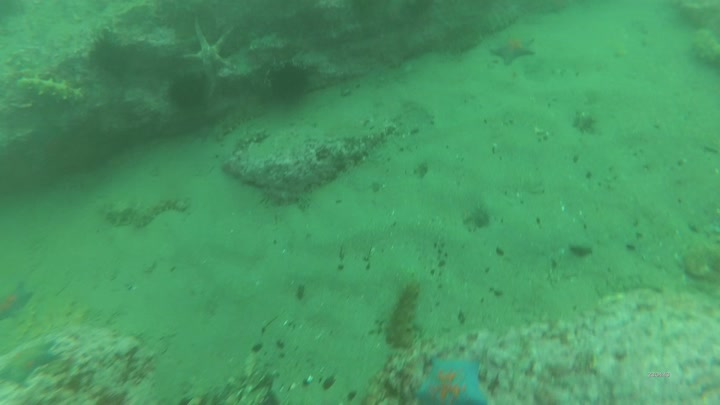echinus: (271, 62, 312, 102)
holothurian: (386, 279, 423, 350), (14, 75, 85, 104), (215, 108, 269, 142), (64, 336, 95, 390), (137, 197, 188, 228), (482, 6, 521, 37), (235, 128, 271, 157), (449, 32, 484, 58)
starfish: (180, 19, 238, 90), (415, 357, 492, 405), (1, 342, 59, 388), (490, 33, 538, 69), (1, 281, 35, 322)
